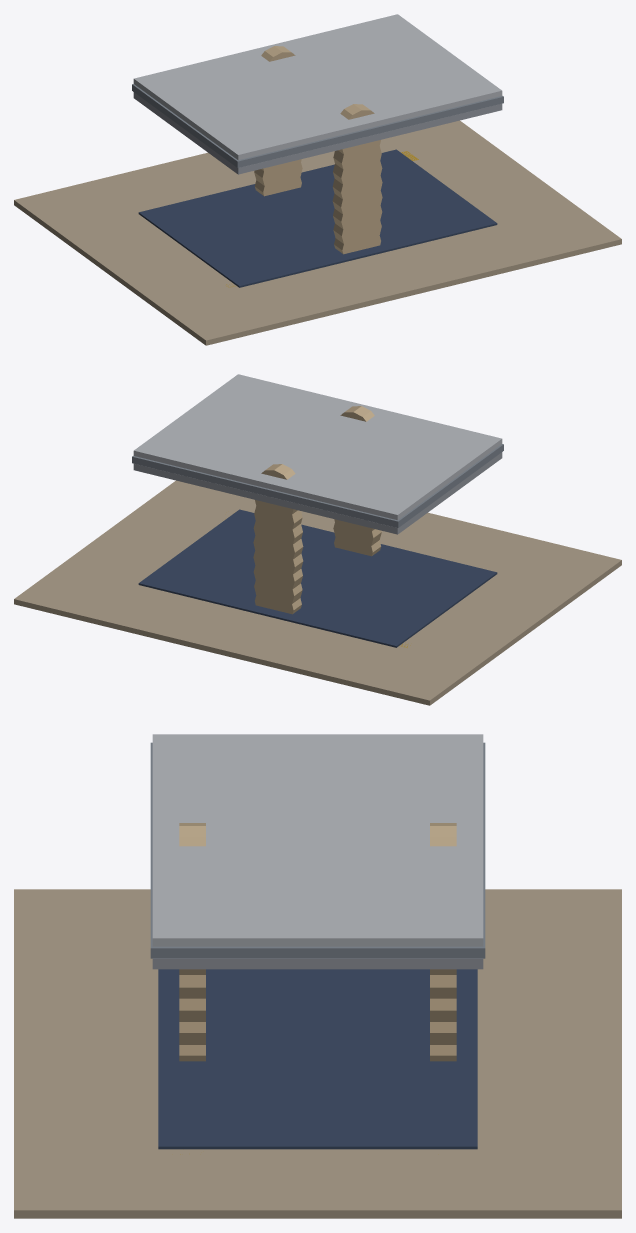
The model's file is stage_06_roof.glb.
The picture shows the model from 3 angles, top to bottom: view 1: azimuth 30°, elevation 25°; view 2: azimuth 150°, elevation 25°; view 3: azimuth 270°, elevation 25°; orthographic projection. The views are drawn at different scales.
Visible parts, largest first — view 1: world; view 2: world; view 3: world.
Part boxes in pixels (x1,y1,x2,y2): world: (14,14,621,345); world: (14,374,621,705); world: (14,734,621,1218).
Size of the model in its own units: 10 by 4.05 by 8.
